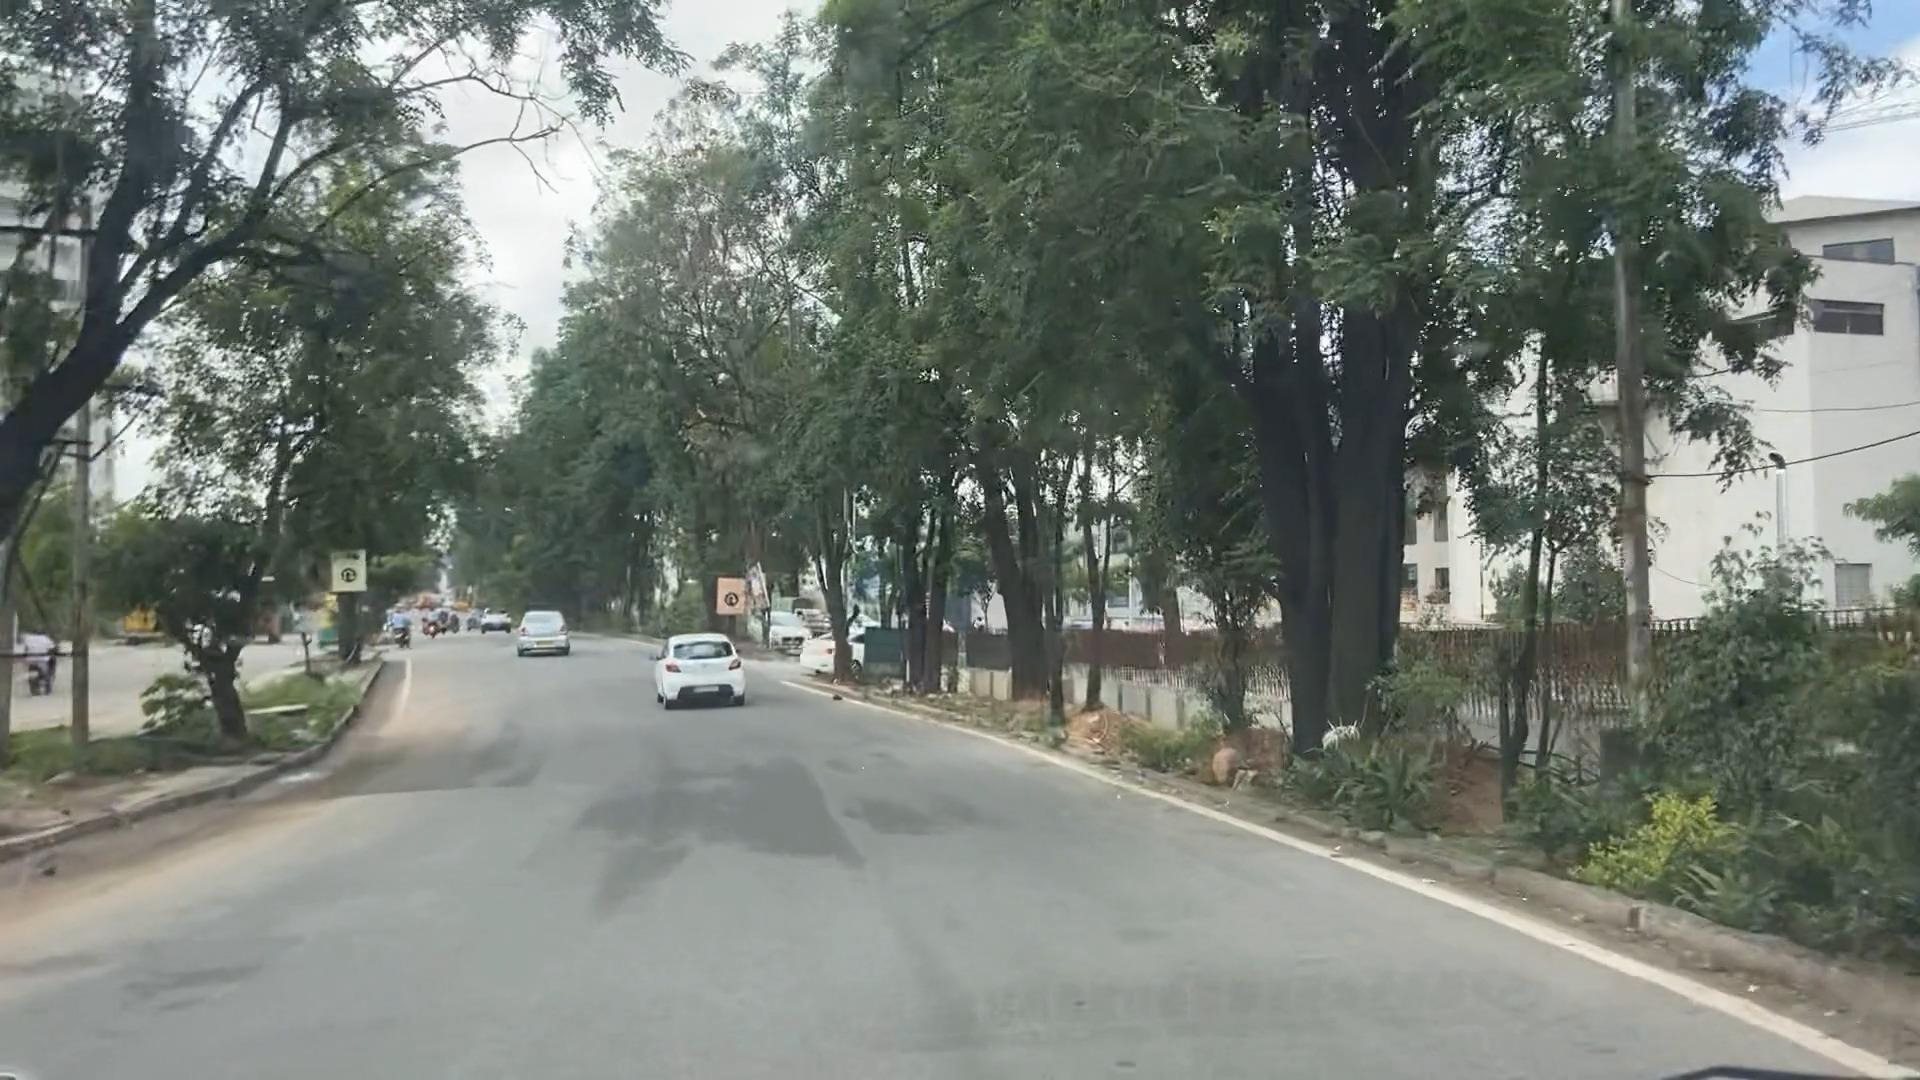LMV: (660, 630, 742, 703), (520, 604, 567, 652)
RoadDamages: (724, 762, 839, 878), (132, 934, 254, 1011), (16, 836, 201, 882), (594, 768, 699, 834), (368, 730, 460, 792), (582, 850, 688, 900), (846, 784, 937, 838), (280, 764, 348, 808), (498, 736, 542, 801)
